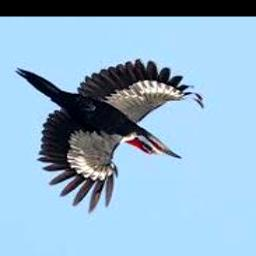Woodpecker: (15, 60, 204, 214)
